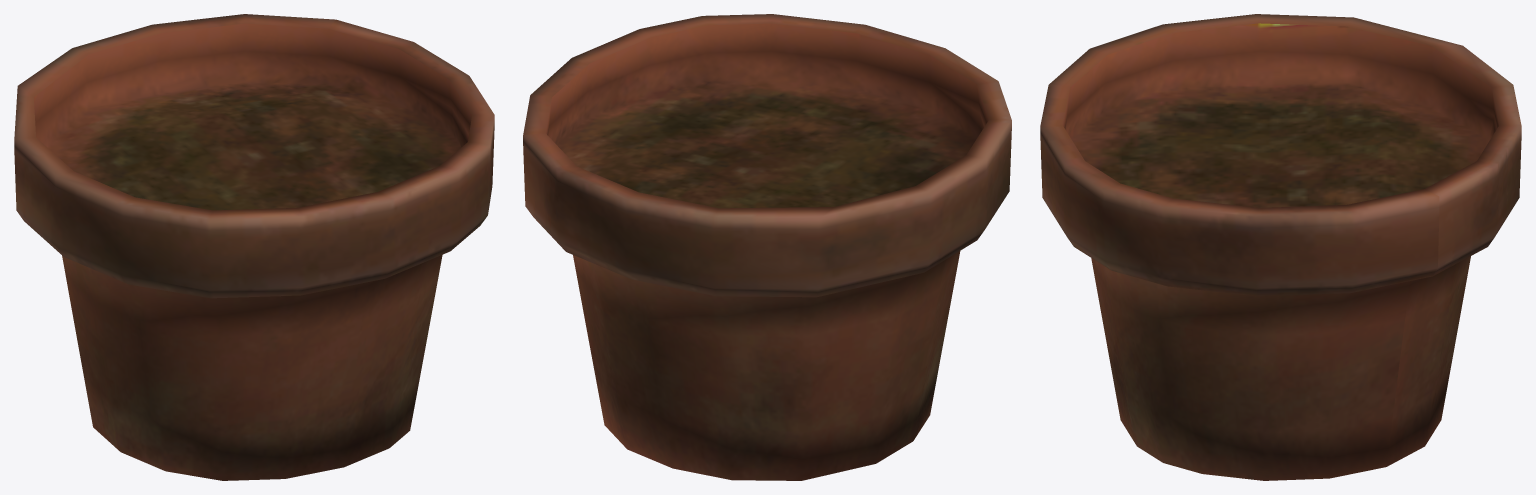
File: laserbean_maceta.obj
3 views of the same model, side by side, from view 1: azimuth 30°, elevation 25°; view 2: azimuth 150°, elevation 25°; view 3: azimuth 270°, elevation 25° (orthographic).
Visible parts, largest first — view 1: laserbean_maceta; view 2: laserbean_maceta; view 3: laserbean_maceta.
Part boxes in pixels (x1,y1,x2,y2): laserbean_maceta: (14,14,494,480); laserbean_maceta: (523,14,1011,480); laserbean_maceta: (1040,14,1521,480).
Bounding box in the file's own units: 0.8862 × 0.6045 × 0.8862.
